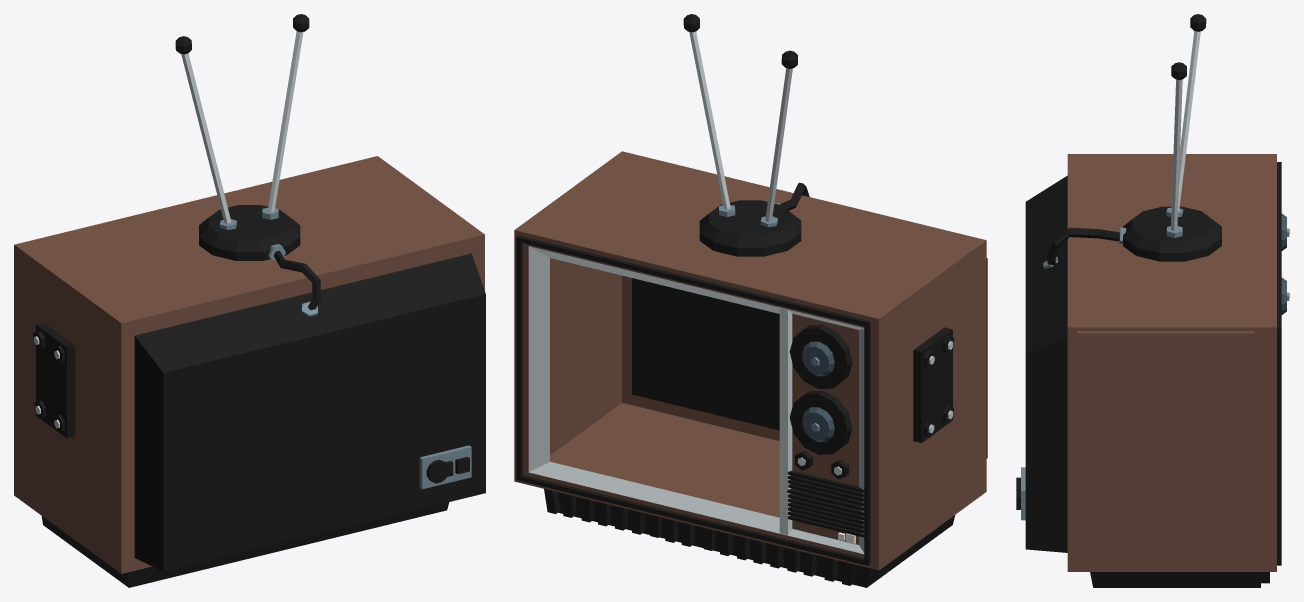
File: OldTvProj.fbx
3 views of the same model, side by side, from view 1: azimuth 30°, elevation 25°; view 2: azimuth 150°, elevation 25°; view 3: azimuth 270°, elevation 25° (orthographic). The views are drawn at different scales.
Parts seen in each view (by area): view 1: group466038209, group926842016, group310550301, group867327657, group1476588037, group1393598046, group2067760130, group1277734885, group1247399666; view 2: group926842016, group466038209, group1507732589, group1117102901, group310550301, group1476588037, group993591691, group993591691.001, group867327657, group270195480, group2019339649, group2017288429 (+4 smaller); view 3: group1507732589, group926842016, group466038209, group310550301, group867327657, group1800594314, group2067760130, group1393598046, group1247399666, group2019339649.
Boxes of the visible parts, x1=… form: group466038209: x1=134, y1=253, x2=485, y2=571; group926842016: x1=14, y1=156, x2=484, y2=573; group310550301: x1=199, y1=205, x2=300, y2=260; group867327657: x1=41, y1=502, x2=449, y2=587; group1476588037: x1=36, y1=323, x2=75, y2=438; group1393598046: x1=267, y1=31, x2=303, y2=212; group2067760130: x1=181, y1=53, x2=231, y2=223; group1277734885: x1=419, y1=445, x2=471, y2=489; group1247399666: x1=273, y1=250, x2=320, y2=310; group926842016: x1=514, y1=151, x2=986, y2=570; group466038209: x1=632, y1=258, x2=987, y2=458; group1507732589: x1=550, y1=258, x2=621, y2=454; group1117102901: x1=792, y1=314, x2=858, y2=544; group310550301: x1=699, y1=200, x2=801, y2=256; group1476588037: x1=913, y1=327, x2=952, y2=442; group993591691: x1=789, y1=390, x2=852, y2=454; group993591691.001: x1=789, y1=325, x2=852, y2=388; group867327657: x1=558, y1=492, x2=955, y2=587; group270195480: x1=779, y1=307, x2=792, y2=535; group2019339649: x1=516, y1=235, x2=869, y2=327; group2017288429: x1=520, y1=475, x2=868, y2=565; group1507732589: x1=1077, y1=331, x2=1253, y2=569; group926842016: x1=1067, y1=154, x2=1276, y2=571; group466038209: x1=1025, y1=175, x2=1067, y2=552; group310550301: x1=1123, y1=206, x2=1221, y2=261; group867327657: x1=1090, y1=572, x2=1260, y2=587; group1800594314: x1=1277, y1=329, x2=1281, y2=561; group2067760130: x1=1178, y1=31, x2=1200, y2=211; group1393598046: x1=1170, y1=79, x2=1182, y2=230; group1247399666: x1=1047, y1=227, x2=1119, y2=265; group2019339649: x1=1277, y1=162, x2=1281, y2=332.
Size of the model in its own units: 92.87 by 113 by 58.68.
